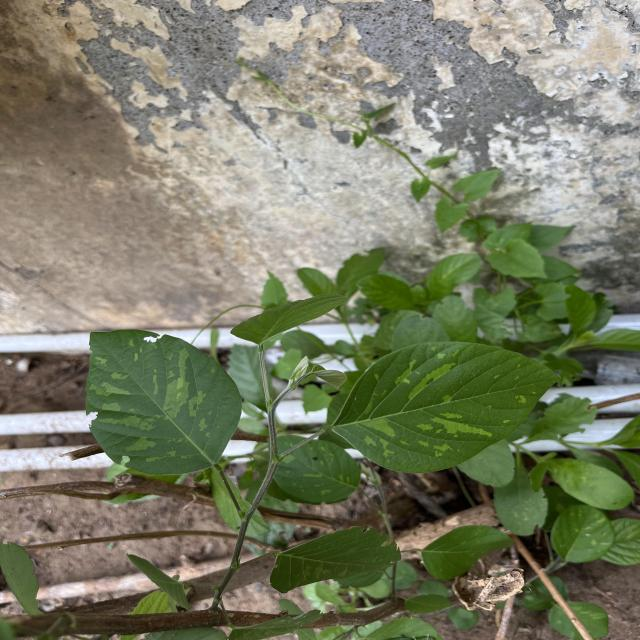Desmodium gangeticum: (329, 338, 564, 476), (82, 325, 246, 478)
